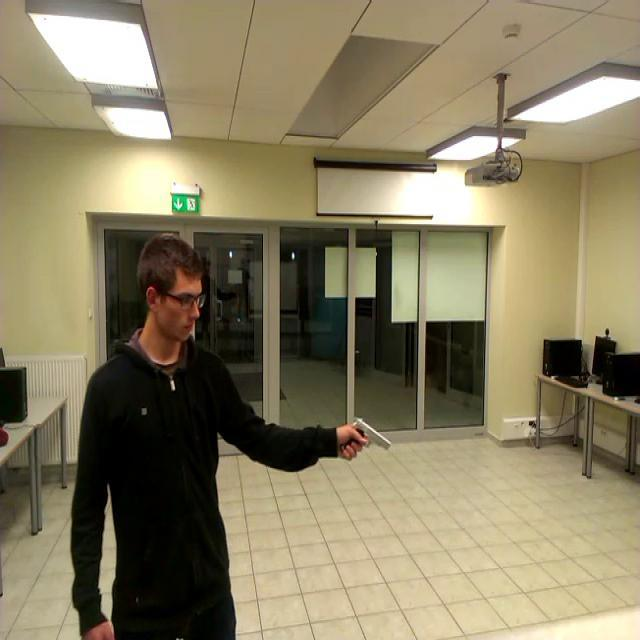Gun: (344, 416, 392, 448)
